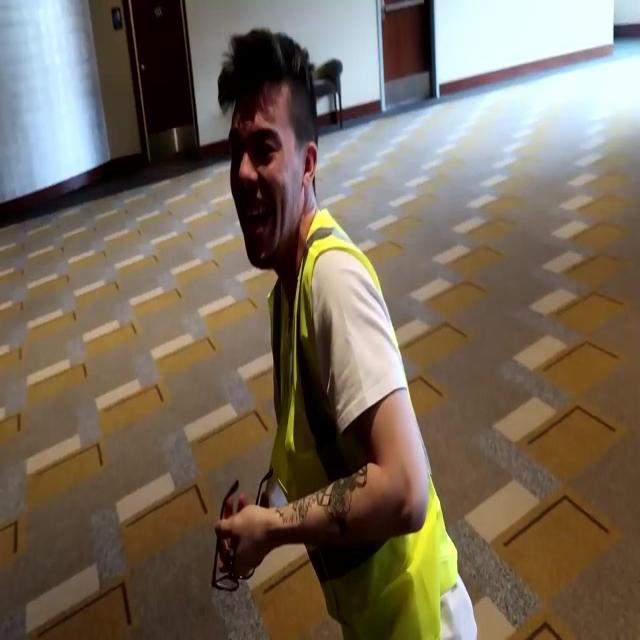jacket: (262, 194, 459, 628)
